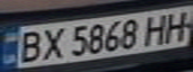5: (66, 21, 90, 57)
6: (103, 18, 127, 52)
8: (118, 16, 145, 50), (84, 20, 109, 55)
B: (12, 28, 48, 64)
H: (139, 11, 175, 46), (160, 7, 193, 43)
X: (36, 25, 69, 61)
